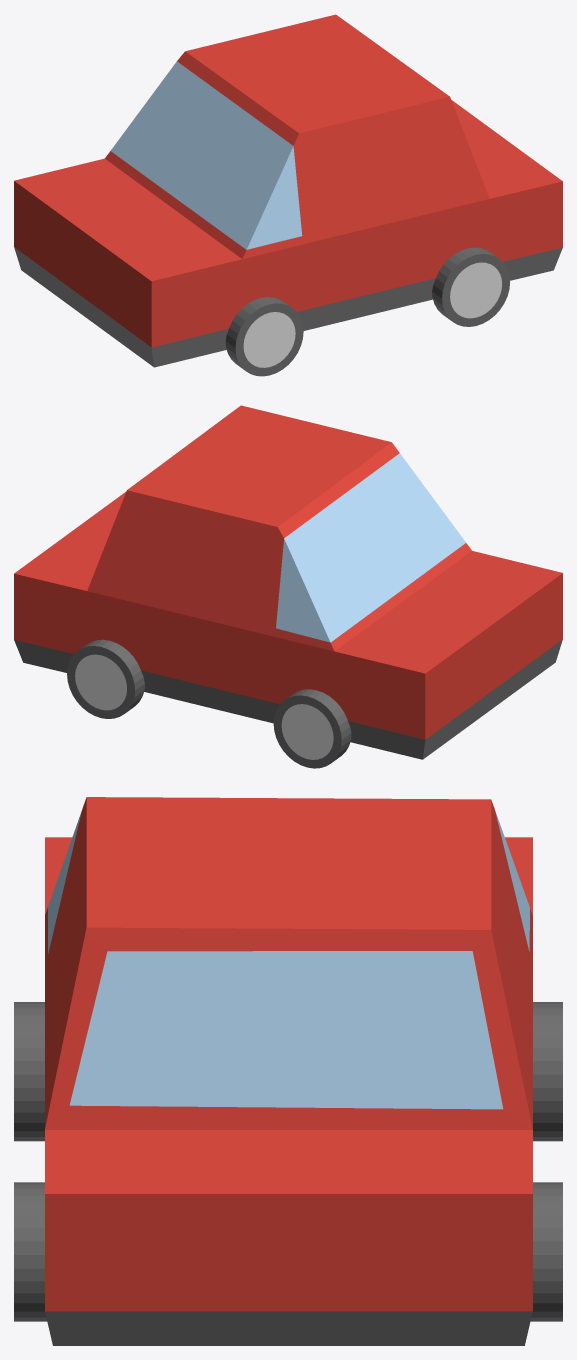
Rendered from car1.fbx.
3 views of the same model, one above another, from view 1: azimuth 30°, elevation 25°; view 2: azimuth 150°, elevation 25°; view 3: azimuth 270°, elevation 25° (orthographic). The views are drawn at different scales.
Parts seen in each view (by area): view 1: Cube, Cube.001; view 2: Cube, Cube.001; view 3: Cube, Cube.001.
Boxes of the visible parts, <box> form: Cube: <box>14,14,562,367</box>; Cube.001: <box>225,247,509,376</box>; Cube: <box>14,405,562,759</box>; Cube.001: <box>67,639,351,768</box>; Cube: <box>45,797,532,1345</box>; Cube.001: <box>14,1002,562,1321</box>.
Bounding box in the file's own units: 623 × 312 × 406.
